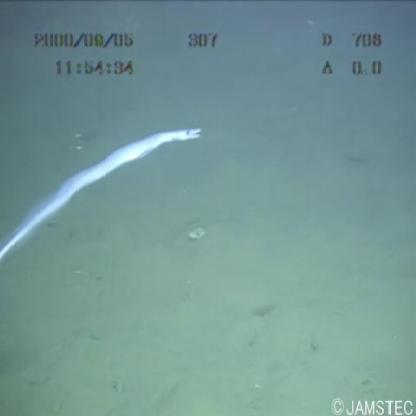Bio: (1, 121, 211, 274)
